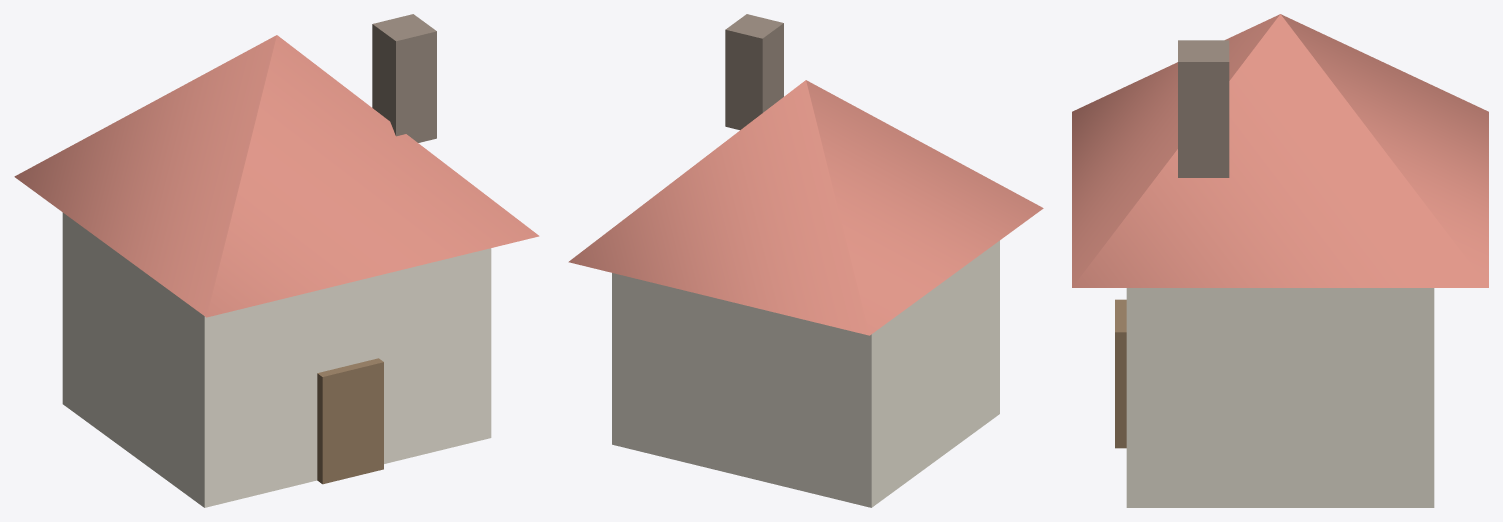
Rendered from house-1.glb.
3 views of the same model, side by side, from view 1: azimuth 30°, elevation 25°; view 2: azimuth 150°, elevation 25°; view 3: azimuth 270°, elevation 25° (orthographic). The views are drawn at different scales.
Bounding box in the file's own units: 1.63 × 1.85 × 1.63.
